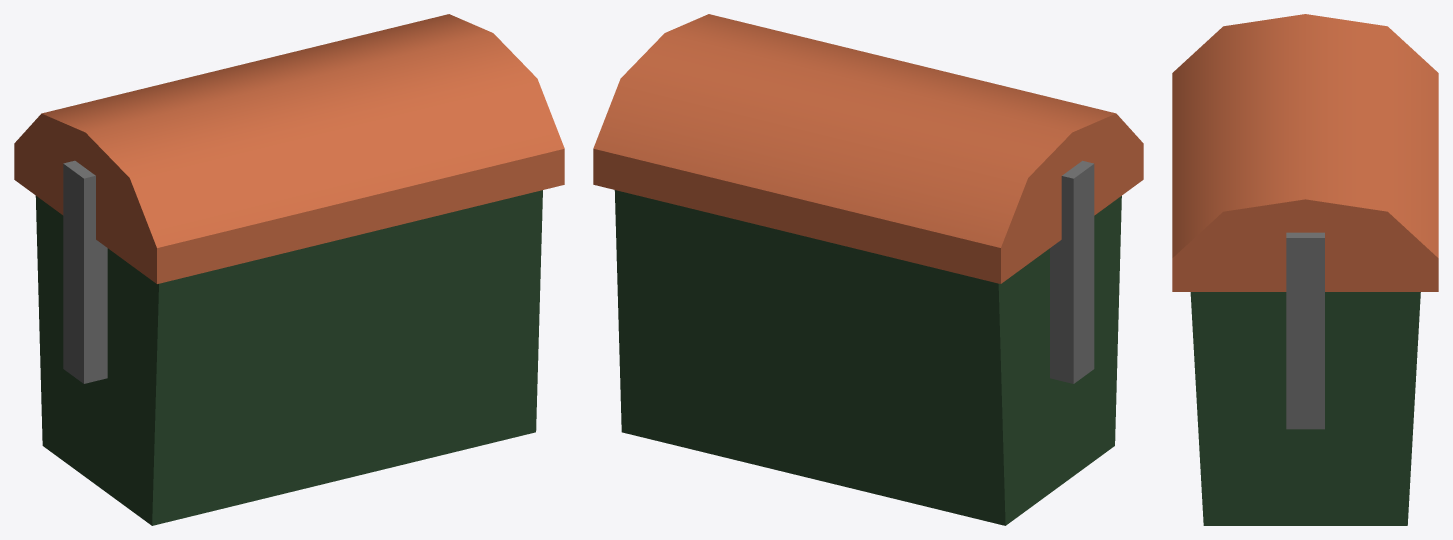
Rendered from trash_006.fbx.
3 renders of one model, left to right at view 1: azimuth 30°, elevation 25°; view 2: azimuth 150°, elevation 25°; view 3: azimuth 270°, elevation 25°, orthographic. The views are drawn at different scales.
Parts seen in each view (by area): view 1: trash_006; view 2: trash_006; view 3: trash_006.
Boxes of the visible parts, x1,y1,x2,y2 form: trash_006: (14, 14, 564, 525); trash_006: (593, 14, 1143, 525); trash_006: (1172, 14, 1438, 525).
Size of the model in its own units: 208 by 165 by 120.
